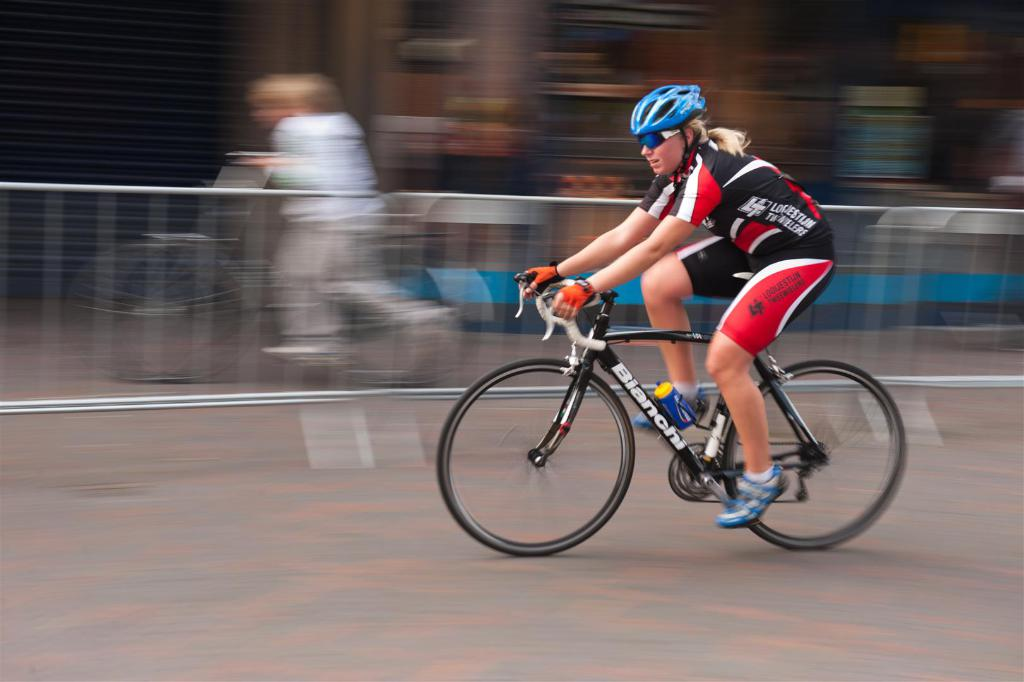Person: (518, 83, 837, 528), (224, 72, 466, 376)
